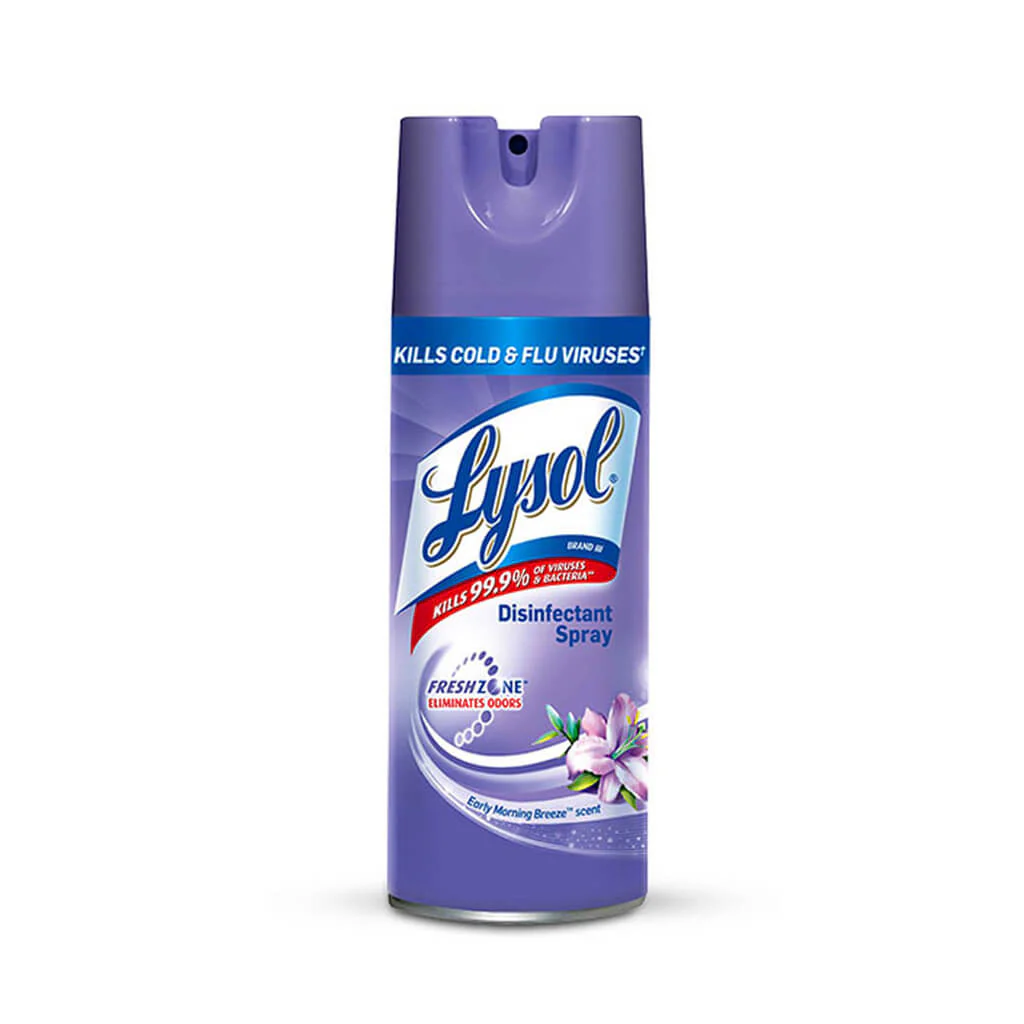toxic_waste: (395, 113, 645, 903)
